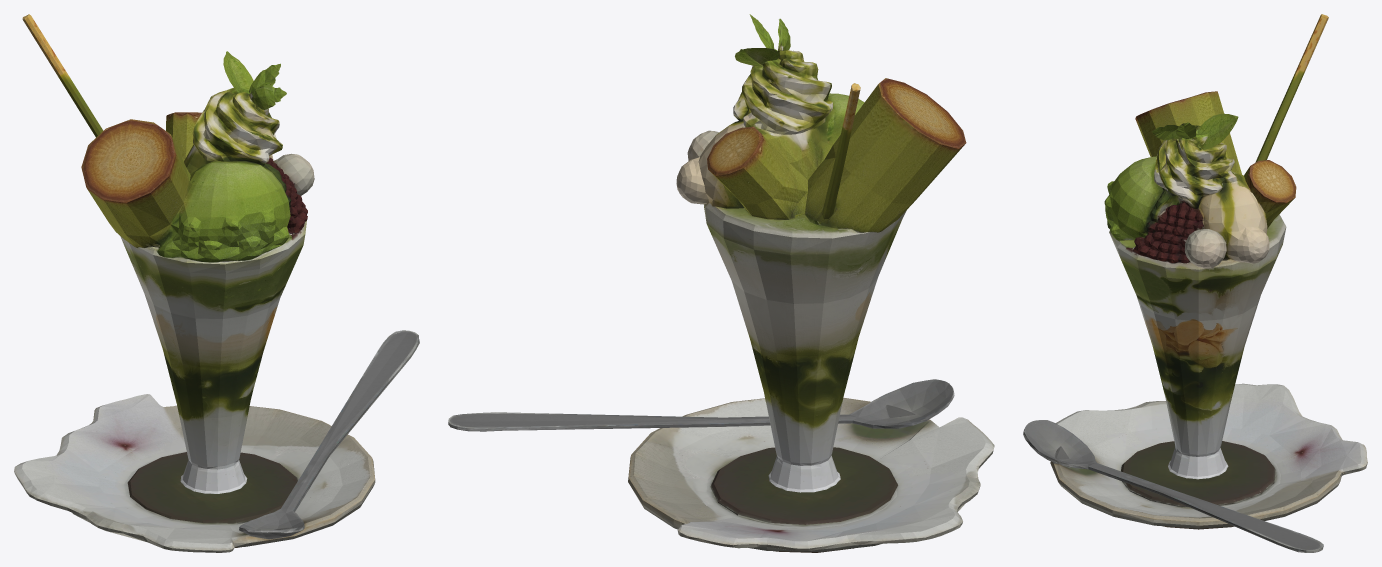
The model's file is matcha.glb.
3 renders of one model, left to right at view 1: azimuth 30°, elevation 25°; view 2: azimuth 150°, elevation 25°; view 3: azimuth 270°, elevation 25°, orthographic. The views are drawn at different scales.
Parts seen in each view (by area): view 1: tripo_node_6107c61c-100d-42f2-9939-e992db83aceb; view 2: tripo_node_6107c61c-100d-42f2-9939-e992db83aceb; view 3: tripo_node_6107c61c-100d-42f2-9939-e992db83aceb.
Boxes of the visible parts, left/top/right/bottom form: tripo_node_6107c61c-100d-42f2-9939-e992db83aceb: left=14, top=14, right=419, bottom=552; tripo_node_6107c61c-100d-42f2-9939-e992db83aceb: left=448, top=14, right=994, bottom=552; tripo_node_6107c61c-100d-42f2-9939-e992db83aceb: left=1023, top=14, right=1367, bottom=552.
Bounding box in the file's own units: 0.9668 × 0.998 × 0.7441.
1 material, 1 textured.
